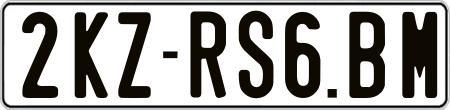2: (22, 11, 60, 98)
6: (285, 11, 323, 100)
B: (348, 10, 386, 97)
K: (75, 11, 113, 98)
M: (402, 11, 434, 102)
R: (189, 8, 229, 97)
S: (239, 11, 277, 102)
Z: (116, 9, 152, 99)
